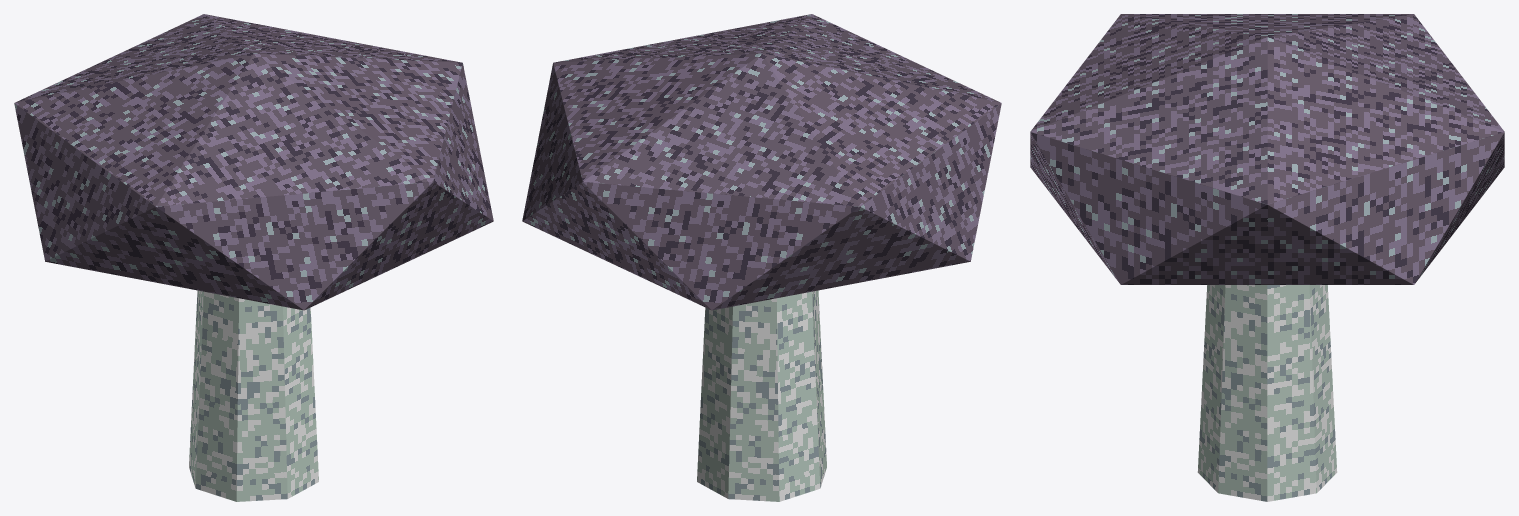
File: a16_fungos_gigantes_3.glb
3 views of the same model, side by side, from view 1: azimuth 30°, elevation 25°; view 2: azimuth 150°, elevation 25°; view 3: azimuth 270°, elevation 25° (orthographic). The views are drawn at different scales.
Parts seen in each view (by area): view 1: a16_fungos_gigantes_3; view 2: a16_fungos_gigantes_3; view 3: a16_fungos_gigantes_3.
Part boxes in pixels (x1=…): a16_fungos_gigantes_3: x1=14, y1=14, x2=493, y2=501; a16_fungos_gigantes_3: x1=522, y1=14, x2=1001, y2=501; a16_fungos_gigantes_3: x1=1030, y1=14, x2=1504, y2=501.
Size of the model in its own units: 5.15 by 4.96 by 4.9.
2 materials, 2 textured.
